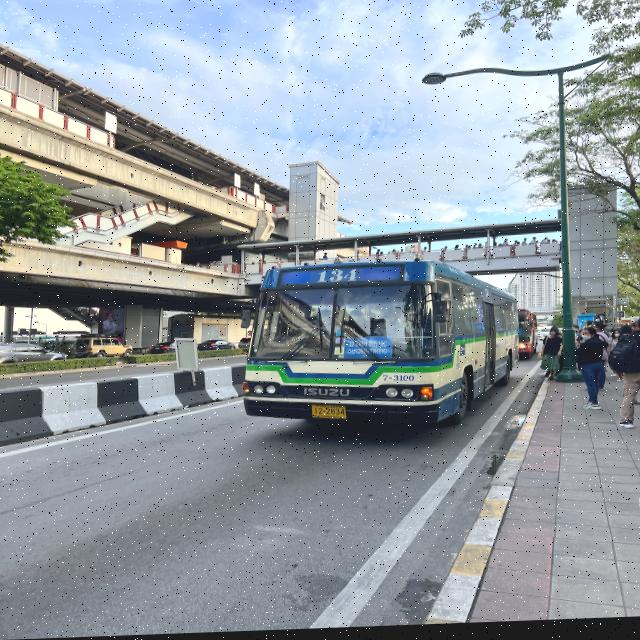BMTA-bus: (239, 258, 516, 435), (517, 313, 541, 361)
Bus-Line-Number: (306, 267, 369, 289)
Destination-Sign-Normal: (346, 339, 393, 362)
